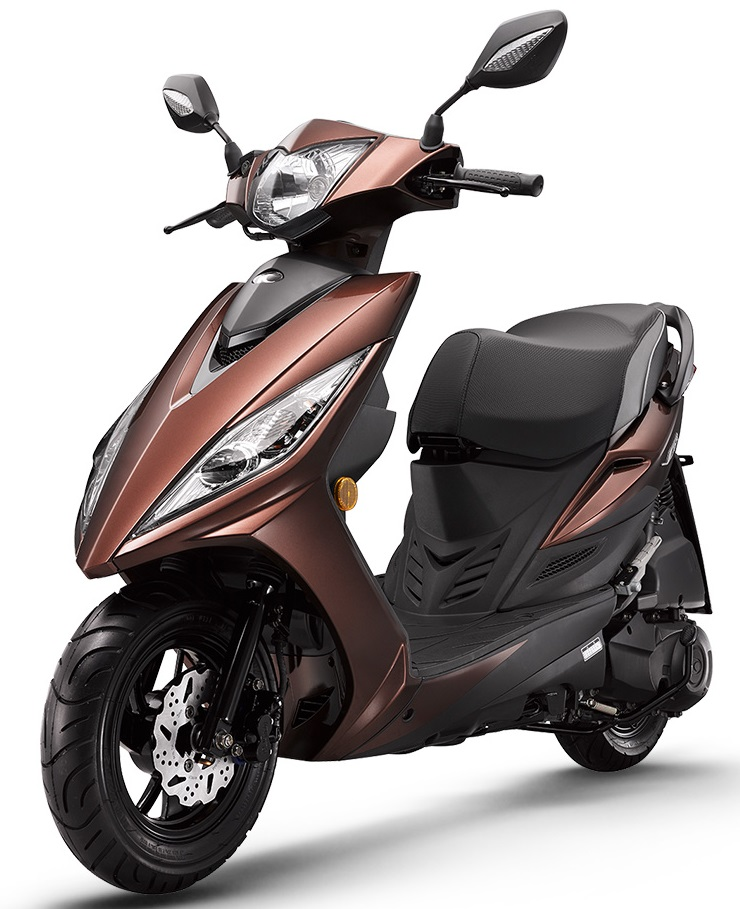motorcycle: (10, 9, 740, 906)
